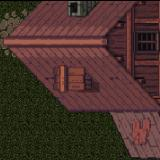Obstacle: (68, 0, 160, 160)
